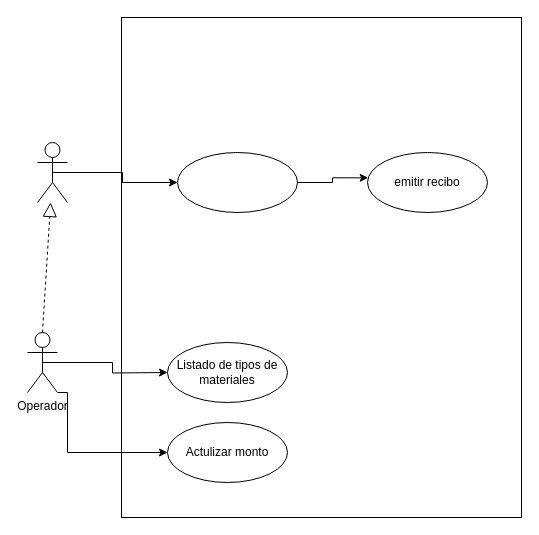
This 539x535 diagram has some shape labels left out. Here are the shapes that lost their labels. From the top down, the centre of each, then its label:
the point at 52,172: Persona
the point at 237,182: Reciclar
